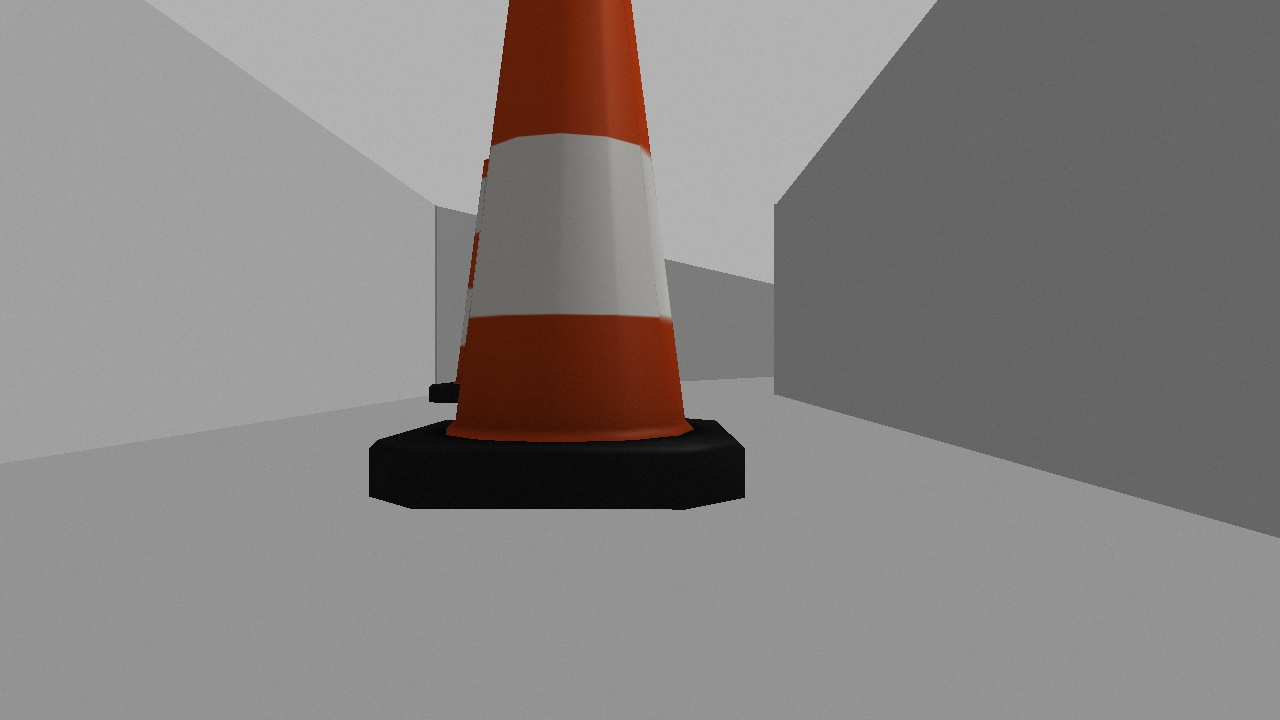barricade: (325, 1, 769, 526)
